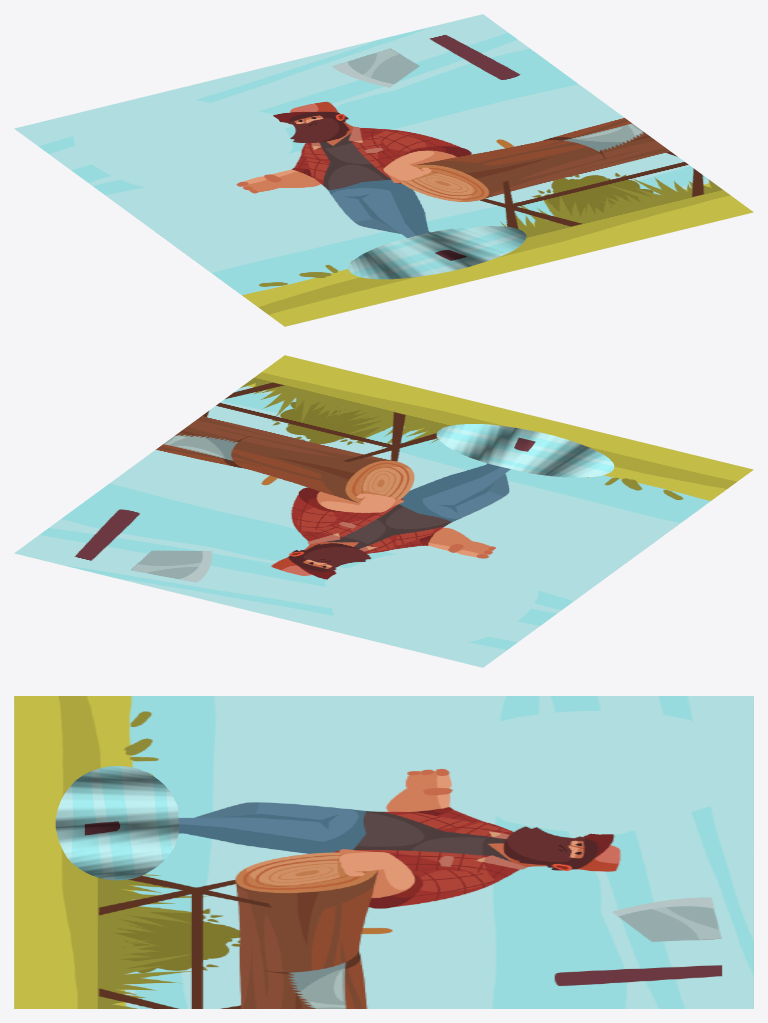
File: Level 120 roll manhole cover.fbx
3 renders of one model, top to bottom at view 1: azimuth 30°, elevation 25°; view 2: azimuth 150°, elevation 25°; view 3: azimuth 270°, elevation 25°, orthographic. The views are drawn at different scales.
Parts seen in each view (by area): view 1: Mesh, Blend; view 2: Mesh, Blend; view 3: Mesh, Blend.
Part boxes in pixels (bbox=[...]): Mesh: bbox=[14, 14, 753, 326]; Blend: bbox=[348, 226, 526, 279]; Mesh: bbox=[14, 355, 753, 667]; Blend: bbox=[436, 424, 614, 477]; Mesh: bbox=[14, 696, 753, 1008]; Blend: bbox=[55, 766, 179, 880].
Bounding box in the file's own units: 2400 × 2 × 2400.
